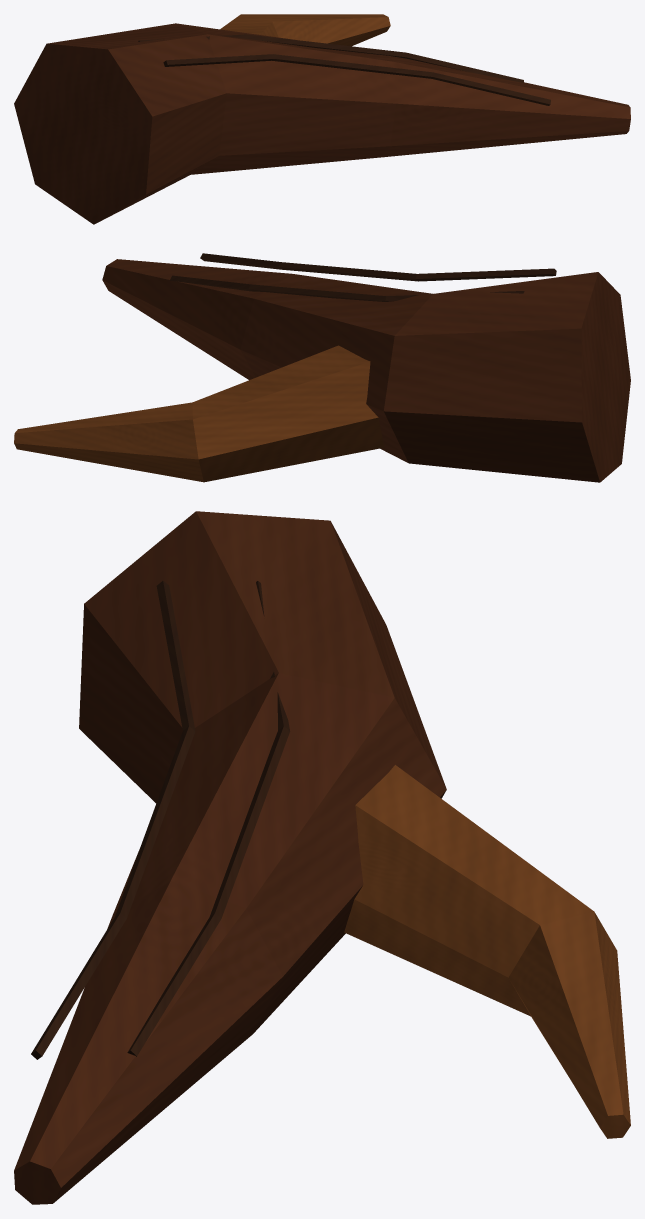
The model's file is forest_root.glb.
3 views of the same model, one above another, from view 1: azimuth 30°, elevation 25°; view 2: azimuth 150°, elevation 25°; view 3: azimuth 270°, elevation 25° (orthographic). The views are drawn at different scales.
Visible parts, largest first — view 1: Gnarled exposed root, Root fork, Root bark carved grain, Root bark carved grain.001; view 2: Gnarled exposed root, Root fork, Root bark carved grain, Root bark carved grain.001; view 3: Gnarled exposed root, Root fork, Root bark carved grain, Root bark carved grain.001.
Boxes of the visible parts, x1,y1,x2,y2 form: Gnarled exposed root: [14, 23, 630, 224]; Root fork: [220, 14, 390, 46]; Root bark carved grain: [163, 54, 550, 105]; Root bark carved grain.001: [138, 34, 523, 82]; Gnarled exposed root: [102, 259, 630, 482]; Root fork: [14, 345, 384, 482]; Root bark carved grain: [200, 253, 556, 281]; Root bark carved grain.001: [170, 275, 524, 301]; Gnarled exposed root: [14, 511, 446, 1204]; Root fork: [344, 765, 630, 1138]; Root bark carved grain: [31, 581, 195, 1059]; Root bark carved grain.001: [127, 581, 290, 1056].
Bounding box in the file's own units: 0.9979 × 0.312 × 0.5862.
3 materials, 3 textured.
